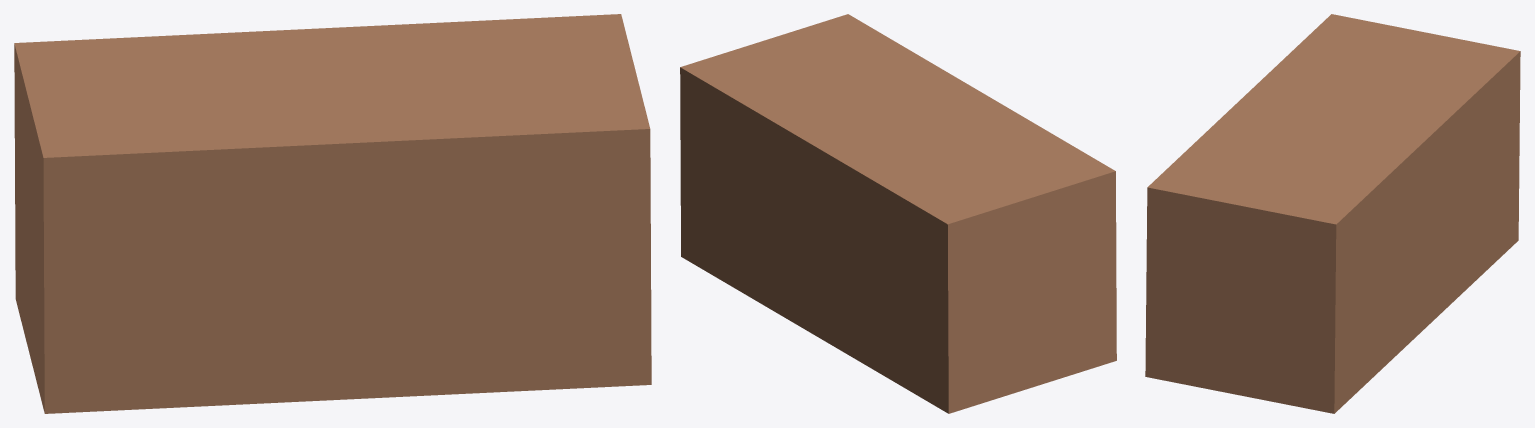
The model's file is GB_Dock_02.fbx.
The picture shows the model from 3 angles, left to right: view 1: azimuth 30°, elevation 25°; view 2: azimuth 150°, elevation 25°; view 3: azimuth 270°, elevation 25°; orthographic projection. The views are drawn at different scales.
Parts seen in each view (by area): view 1: Dock_02; view 2: Dock_02; view 3: Dock_02.
Boxes of the visible parts, left/top/right/bottom form: Dock_02: left=14, top=14, right=651, bottom=413; Dock_02: left=680, top=14, right=1116, bottom=413; Dock_02: left=1145, top=14, right=1520, bottom=413.
Bounding box in the file's own units: 340 × 145 × 256.
